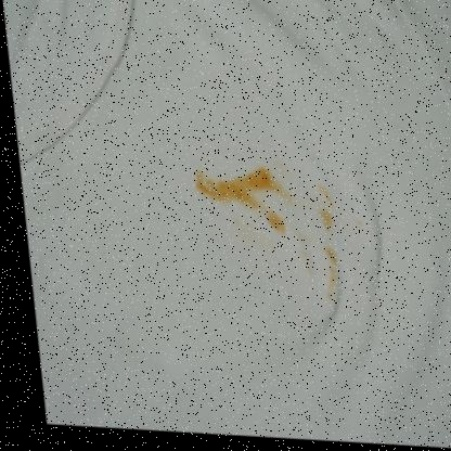kimchi: (190, 170, 281, 208), (323, 246, 345, 305), (318, 181, 336, 240), (267, 207, 296, 233)
